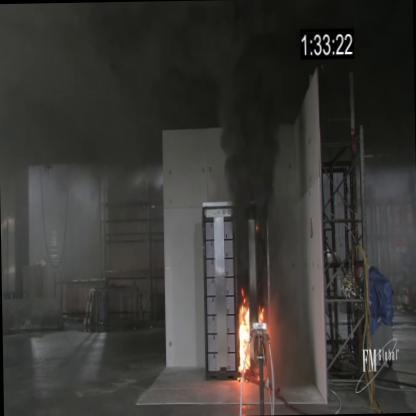fire: (227, 280, 268, 381)
